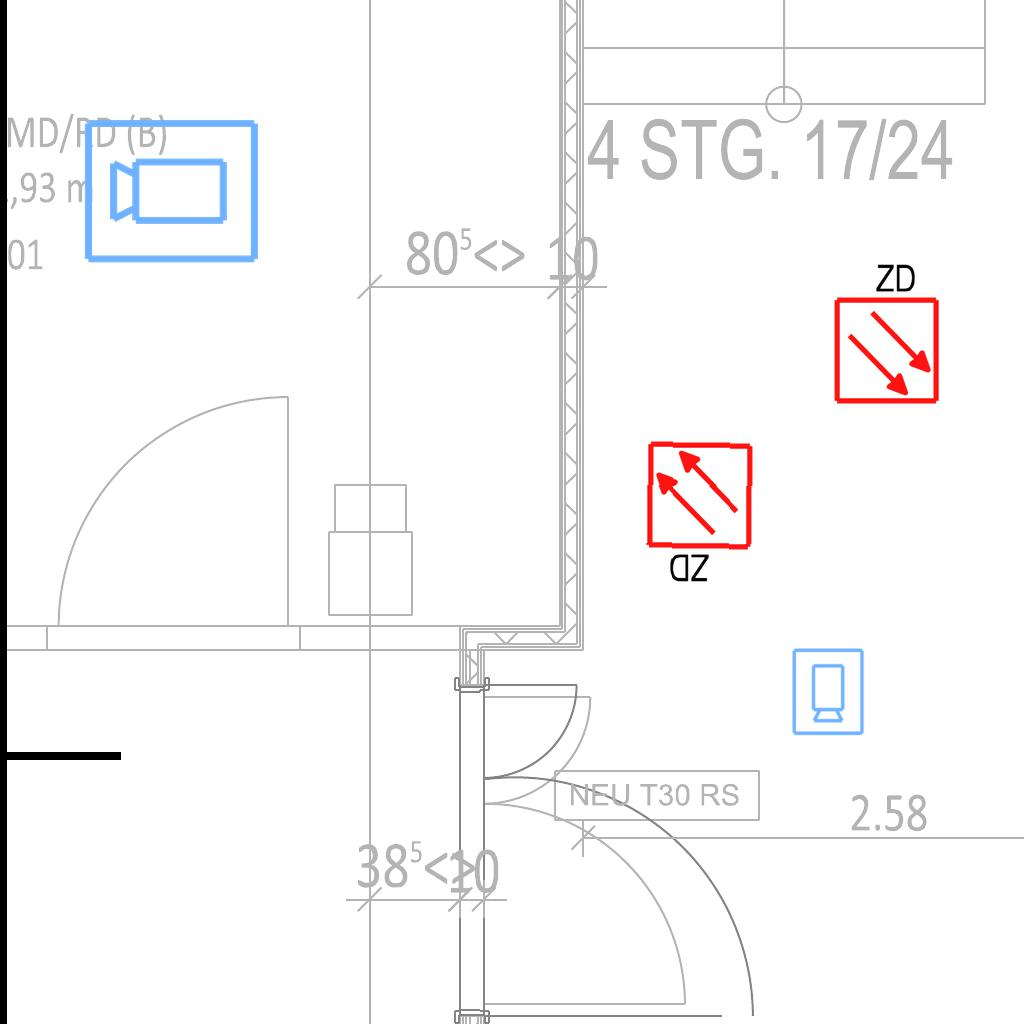KFO_Kamera_mit_Festobjektiv: (81, 113, 263, 267), (789, 646, 866, 737)
ZD_Melder_in_Zwischendecke_mit_Revisionsoeffnung_mind_40_x_40_cm: (642, 439, 760, 590), (828, 257, 942, 406)
